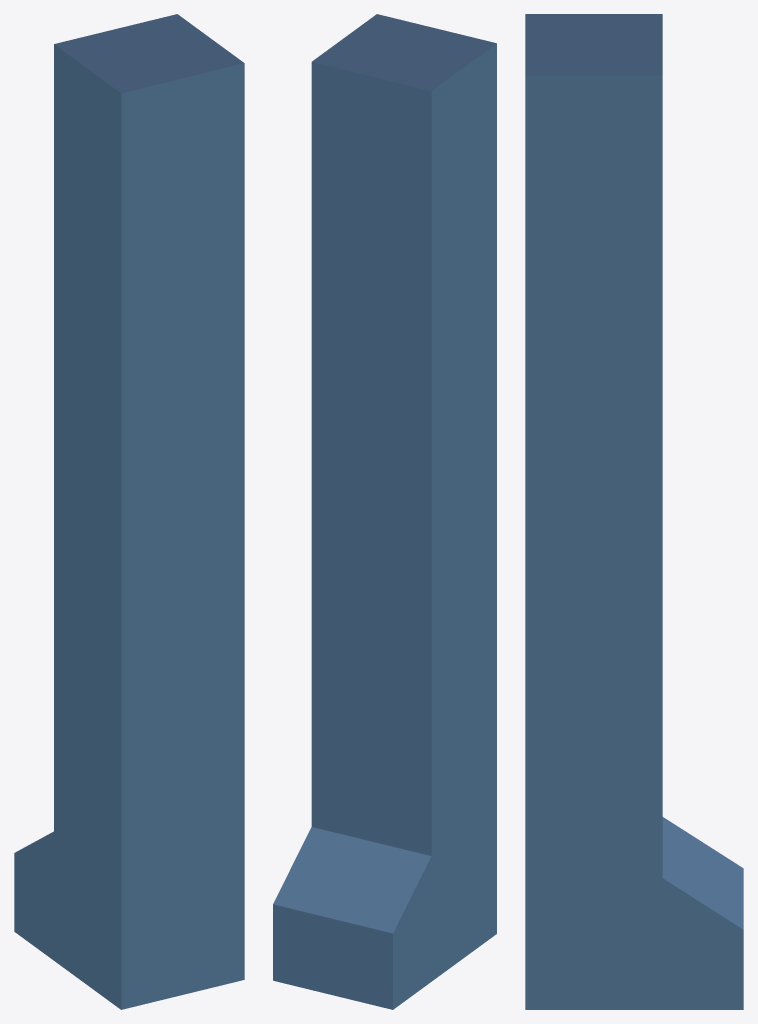
File: pillar-b.glb
3 views of the same model, side by side, from view 1: azimuth 30°, elevation 25°; view 2: azimuth 150°, elevation 25°; view 3: azimuth 270°, elevation 25° (orthographic). The views are drawn at different scales.
Parts seen in each view (by area): view 1: pillar-b; view 2: pillar-b; view 3: pillar-b.
Boxes of the visible parts, x1,y1,x2,y2 form: pillar-b: [14, 14, 244, 1009]; pillar-b: [273, 14, 496, 1009]; pillar-b: [525, 14, 743, 1009].
Size of the model in its own units: 1 by 7.09 by 1.5.
1 material, 1 textured.
